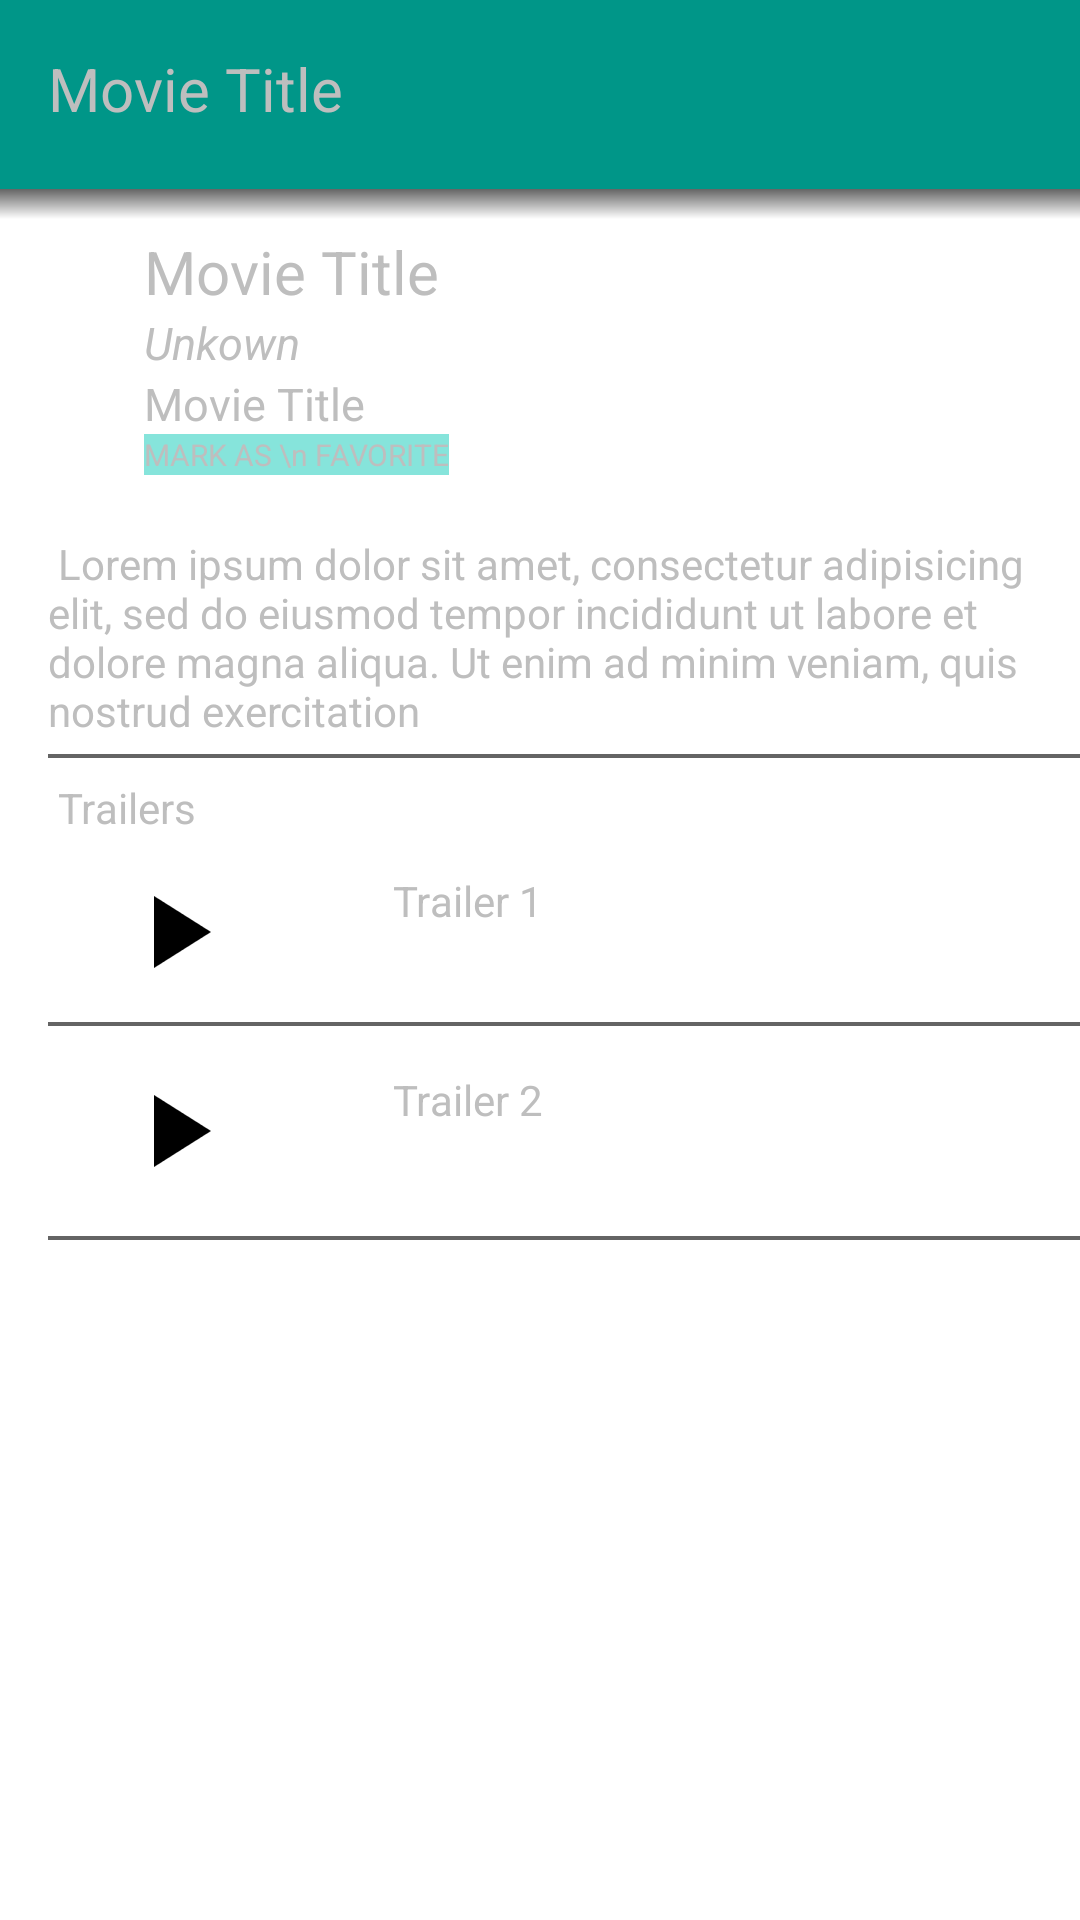

Locate icon controls on the screen. Image size 1080 x 1920, boxes as (x1, y1, x2, y2).
av play arrow: (154, 896, 211, 968), (154, 1095, 211, 1167)
